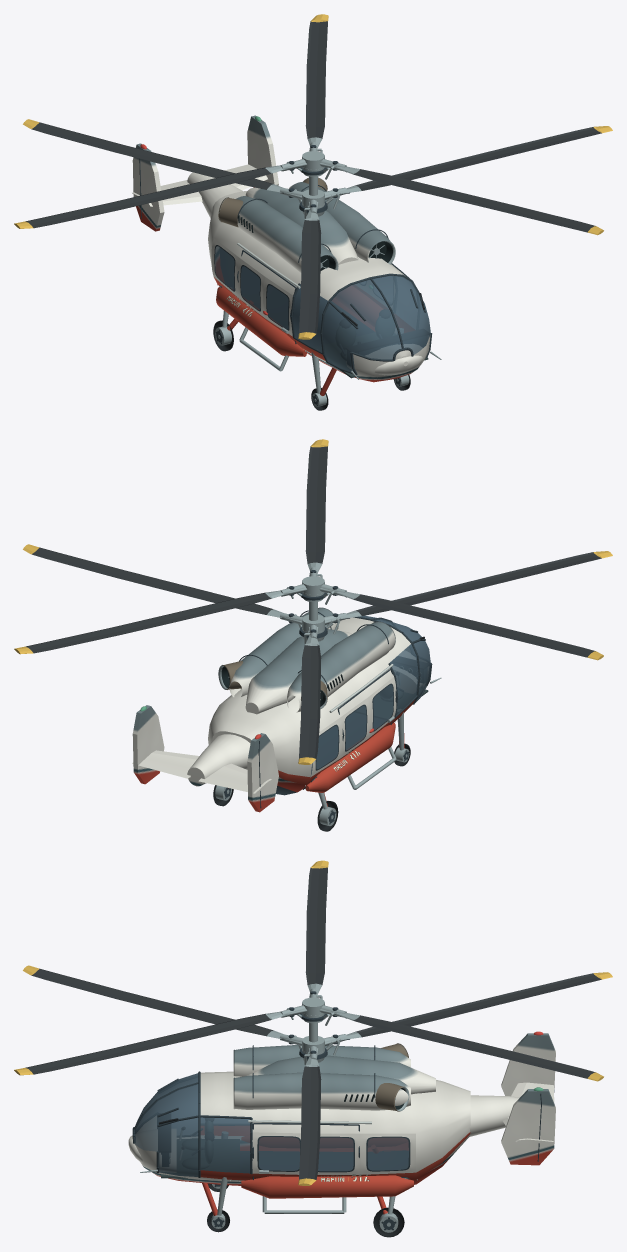
Rendered from GYEOPNAL.glb.
The picture shows the model from 3 angles, top to bottom: view 1: azimuth 30°, elevation 25°; view 2: azimuth 150°, elevation 25°; view 3: azimuth 270°, elevation 25°; orthographic projection.
Visible parts, largest first — view 1: Airframe, SecondMainRotor, MainRotor; view 2: Airframe, SecondMainRotor, MainRotor; view 3: Airframe, SecondMainRotor, MainRotor.
Boxes of the visible parts, x1=… form: Airframe: x1=132, y1=115, x2=441, y2=410; SecondMainRotor: x1=14, y1=14, x2=603, y2=235; MainRotor: x1=23, y1=119, x2=612, y2=339; Airframe: x1=132, y1=592, x2=441, y2=831; SecondMainRotor: x1=14, y1=439, x2=603, y2=660; MainRotor: x1=23, y1=544, x2=612, y2=764; Airframe: x1=128, y1=1013, x2=555, y2=1237; SecondMainRotor: x1=14, y1=860, x2=603, y2=1081; MainRotor: x1=23, y1=965, x2=612, y2=1185.
Bounding box in the file's own units: 15.9 × 5.44 × 14.13.
Materials: 16 (2 with a texture image).
